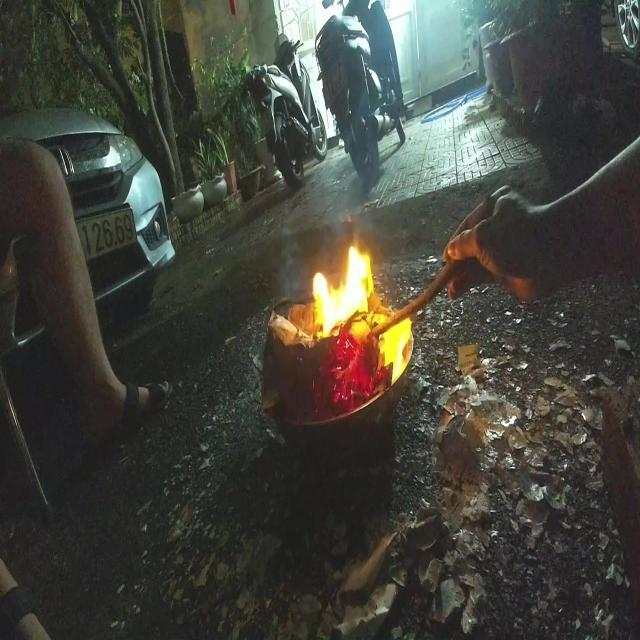Fire: (310, 242, 412, 410)
